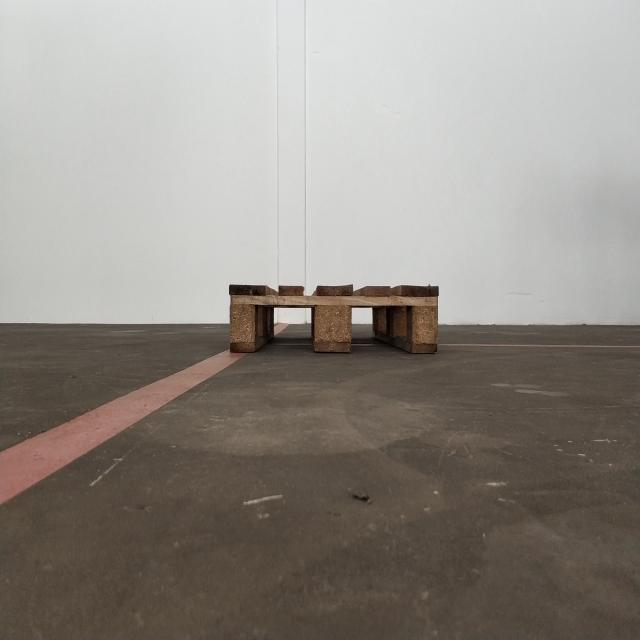block: (312, 288, 354, 353), (406, 289, 440, 357), (227, 284, 260, 353)
front: (225, 282, 440, 356)
